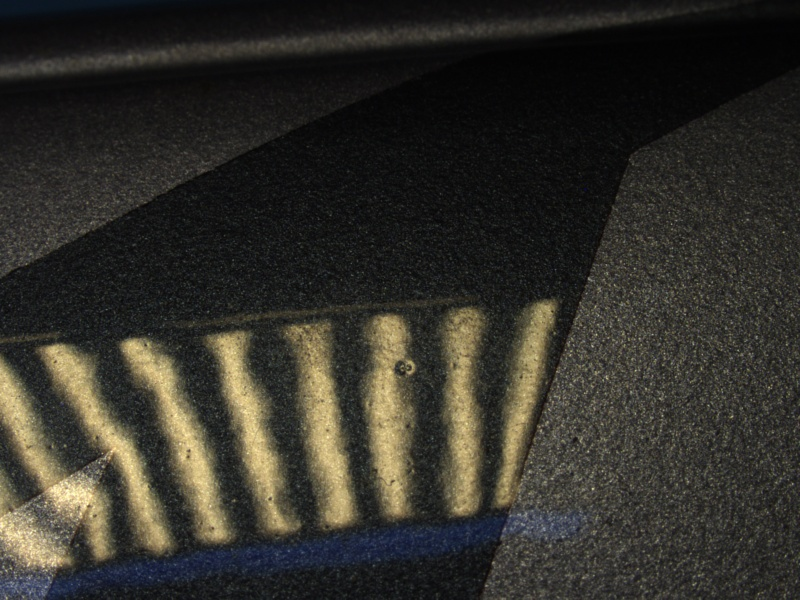bad: (389, 353, 420, 384)
